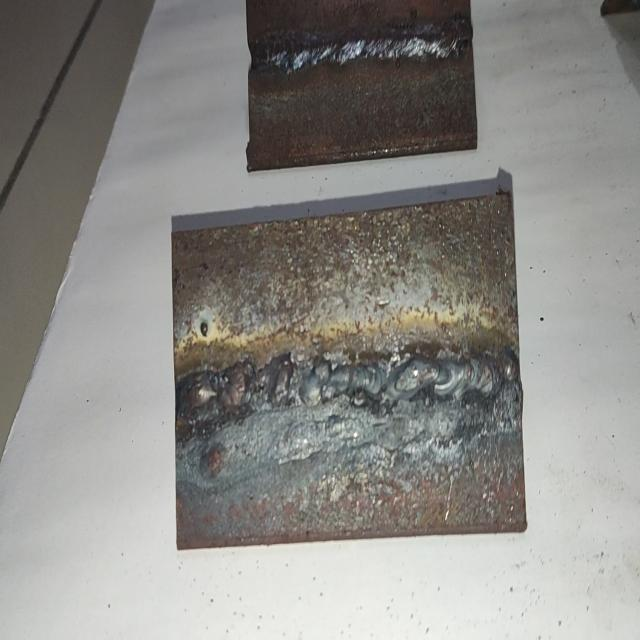Bad Weld: (177, 348, 522, 414)
Defect: (185, 338, 427, 434)
Good Weld: (251, 22, 472, 71)
